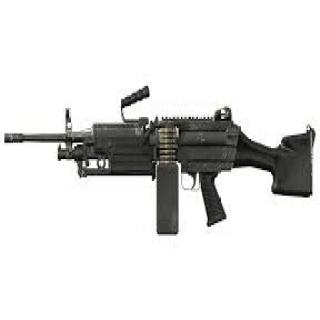gun: (1, 84, 313, 241)
